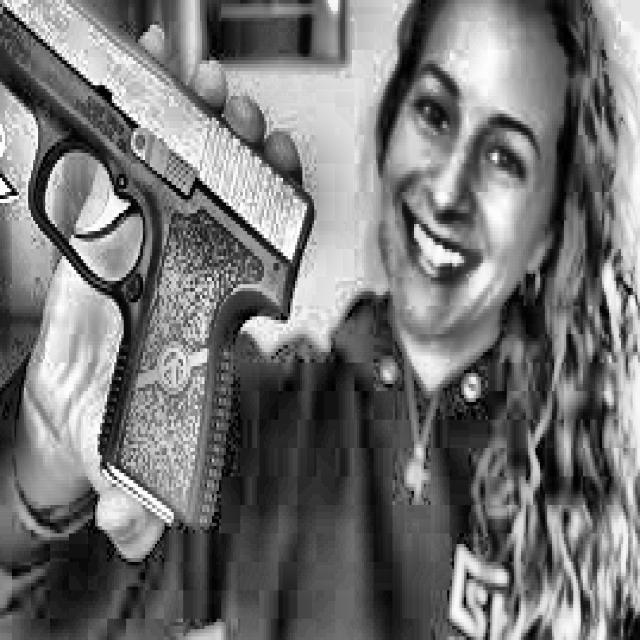Kahr: (0, 0, 314, 530)
